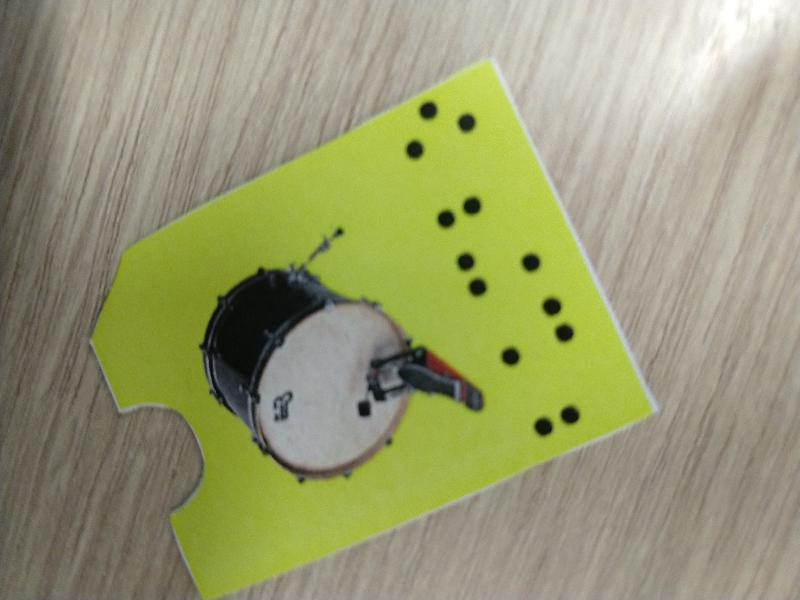bumbo: (91, 46, 657, 600)
